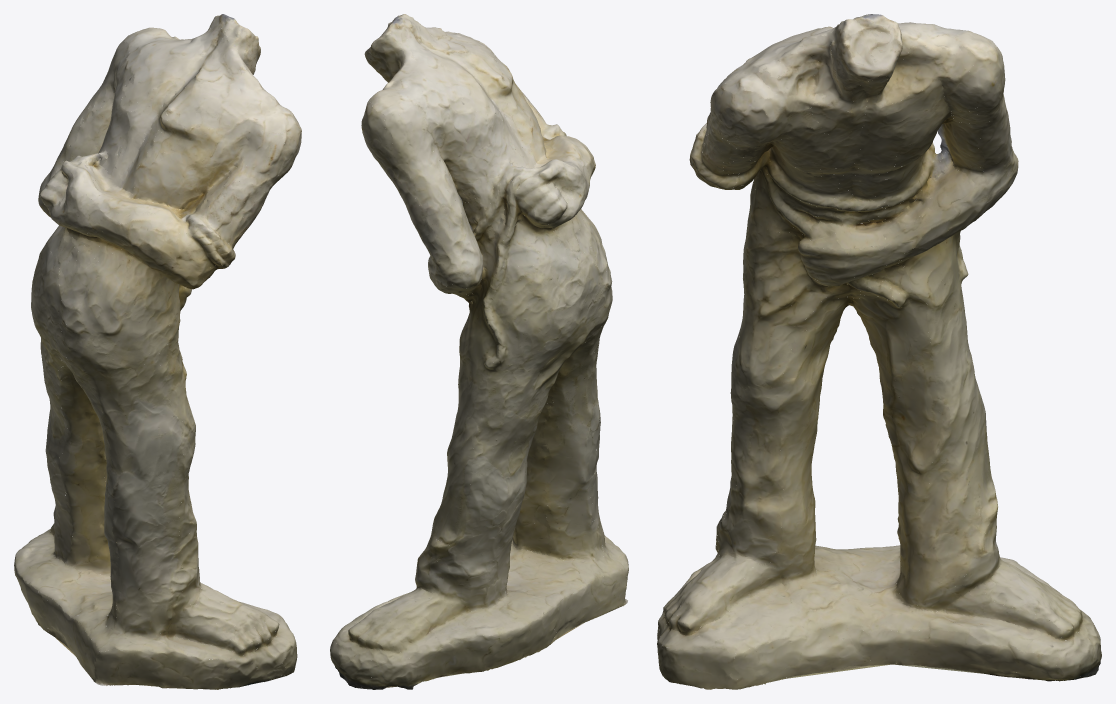
The model's file is free.glb.
The picture shows the model from 3 angles, left to right: view 1: azimuth 30°, elevation 25°; view 2: azimuth 150°, elevation 25°; view 3: azimuth 270°, elevation 25°; orthographic projection. The views are drawn at different scales.
Parts seen in each view (by area): view 1: Mesh_0_Part_0; view 2: Mesh_0_Part_0; view 3: Mesh_0_Part_0.
Part boxes in pixels (x1,y1,x2,y2): Mesh_0_Part_0: (14, 14, 301, 689); Mesh_0_Part_0: (330, 14, 628, 689); Mesh_0_Part_0: (657, 14, 1101, 689).
Size of the model in its own units: 3.11 by 8.17 by 4.8.
1 material, 1 textured.
